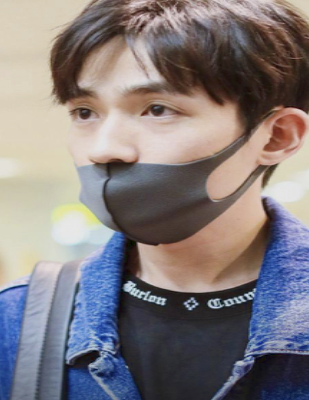mask_weared_incorrect: (62, 80, 236, 247)
